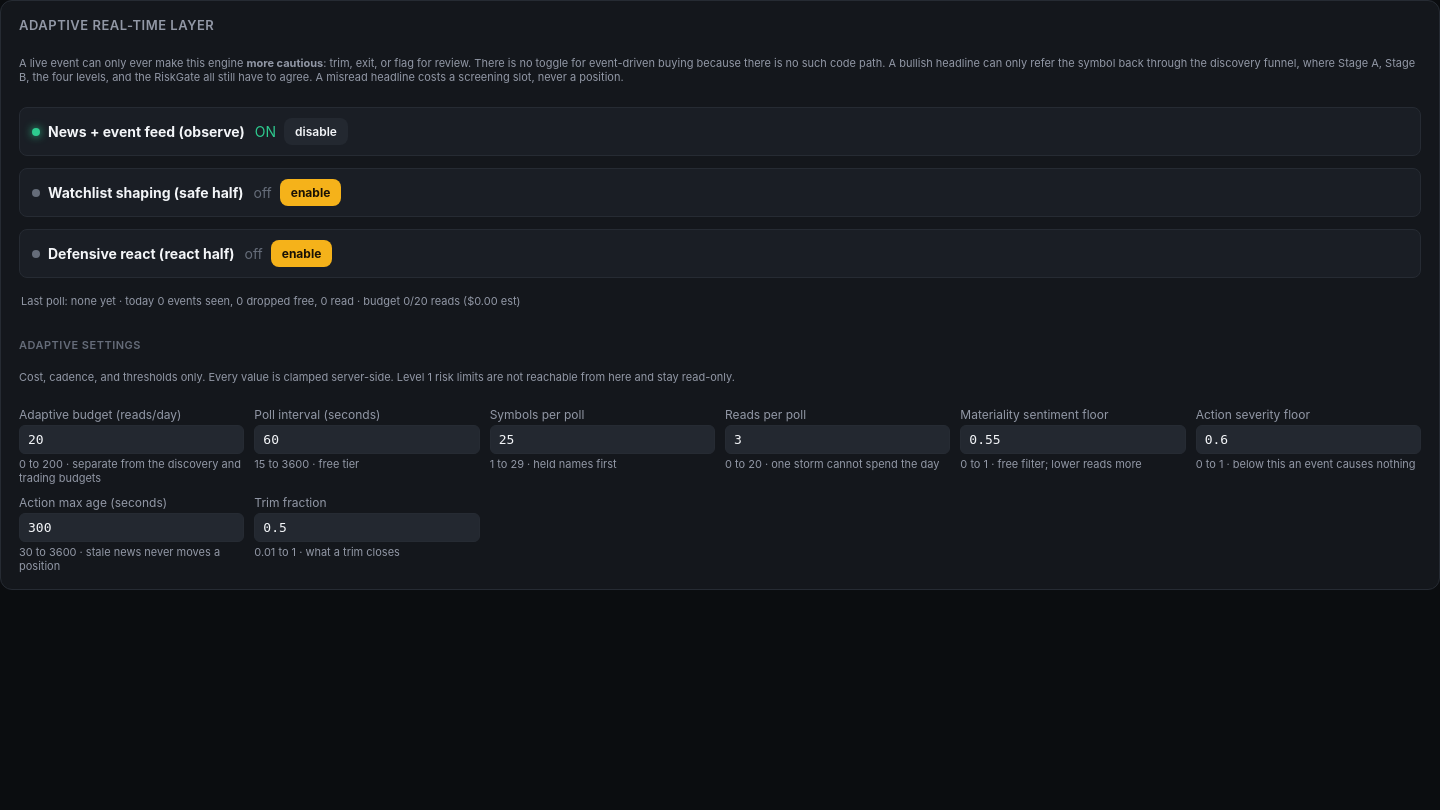
Test: enable toggles ask before they spend › states that the react toggle is the one that can move a position
Click the button "enable" in the row of "Defensive react (react half)": (302, 254) [271, 240, 332, 267]
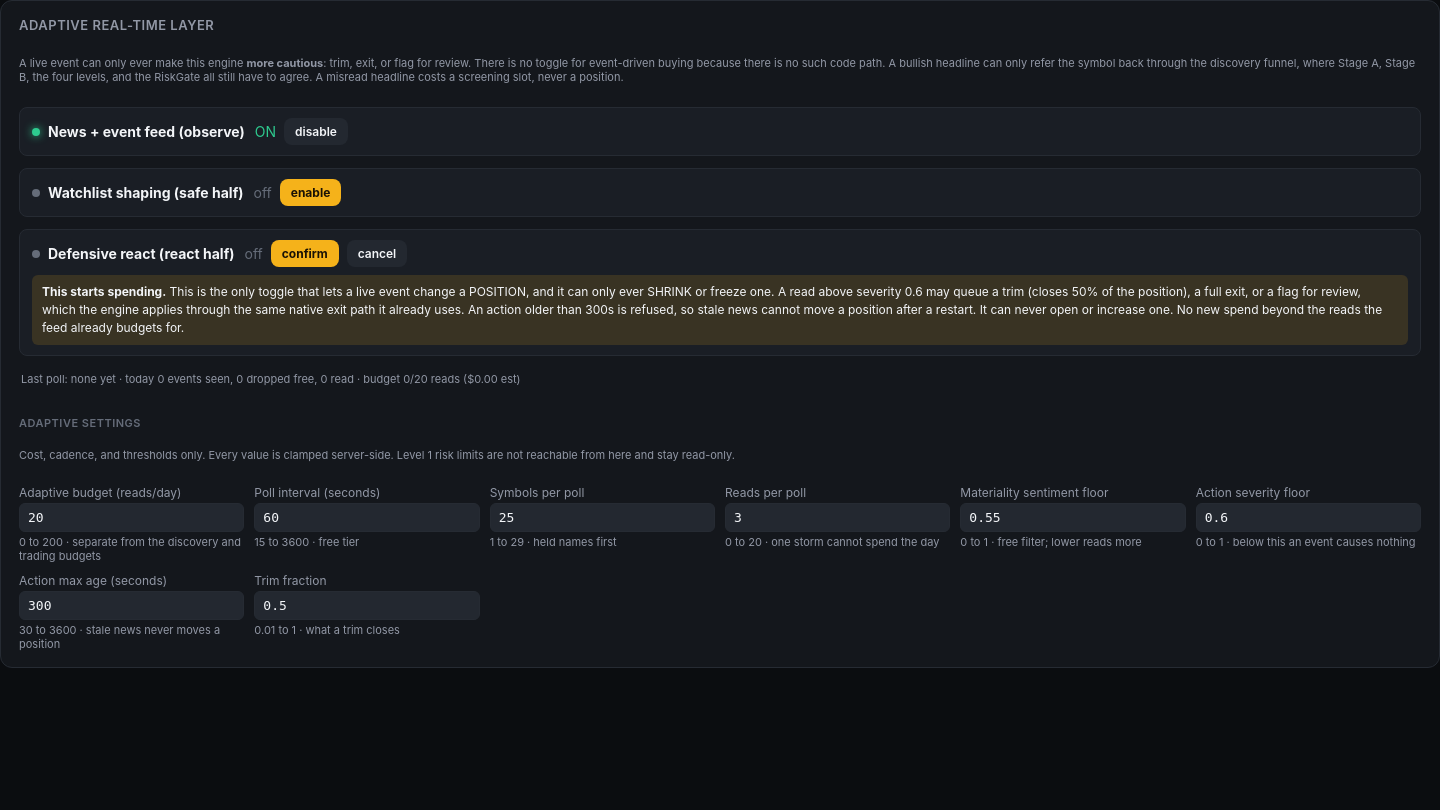
Now the element with test id "toggle-adaptive-react-confirm" shows "only toggle that lets a live event change a POSITION", box [42, 284, 1382, 335]
Now the element with test id "toggle-adaptive-react-confirm" shows "SHRINK or freeze", box [42, 284, 1382, 335]
Now the element with test id "toggle-adaptive-react-confirm" shows "closes 50%", box [42, 284, 1382, 335]
